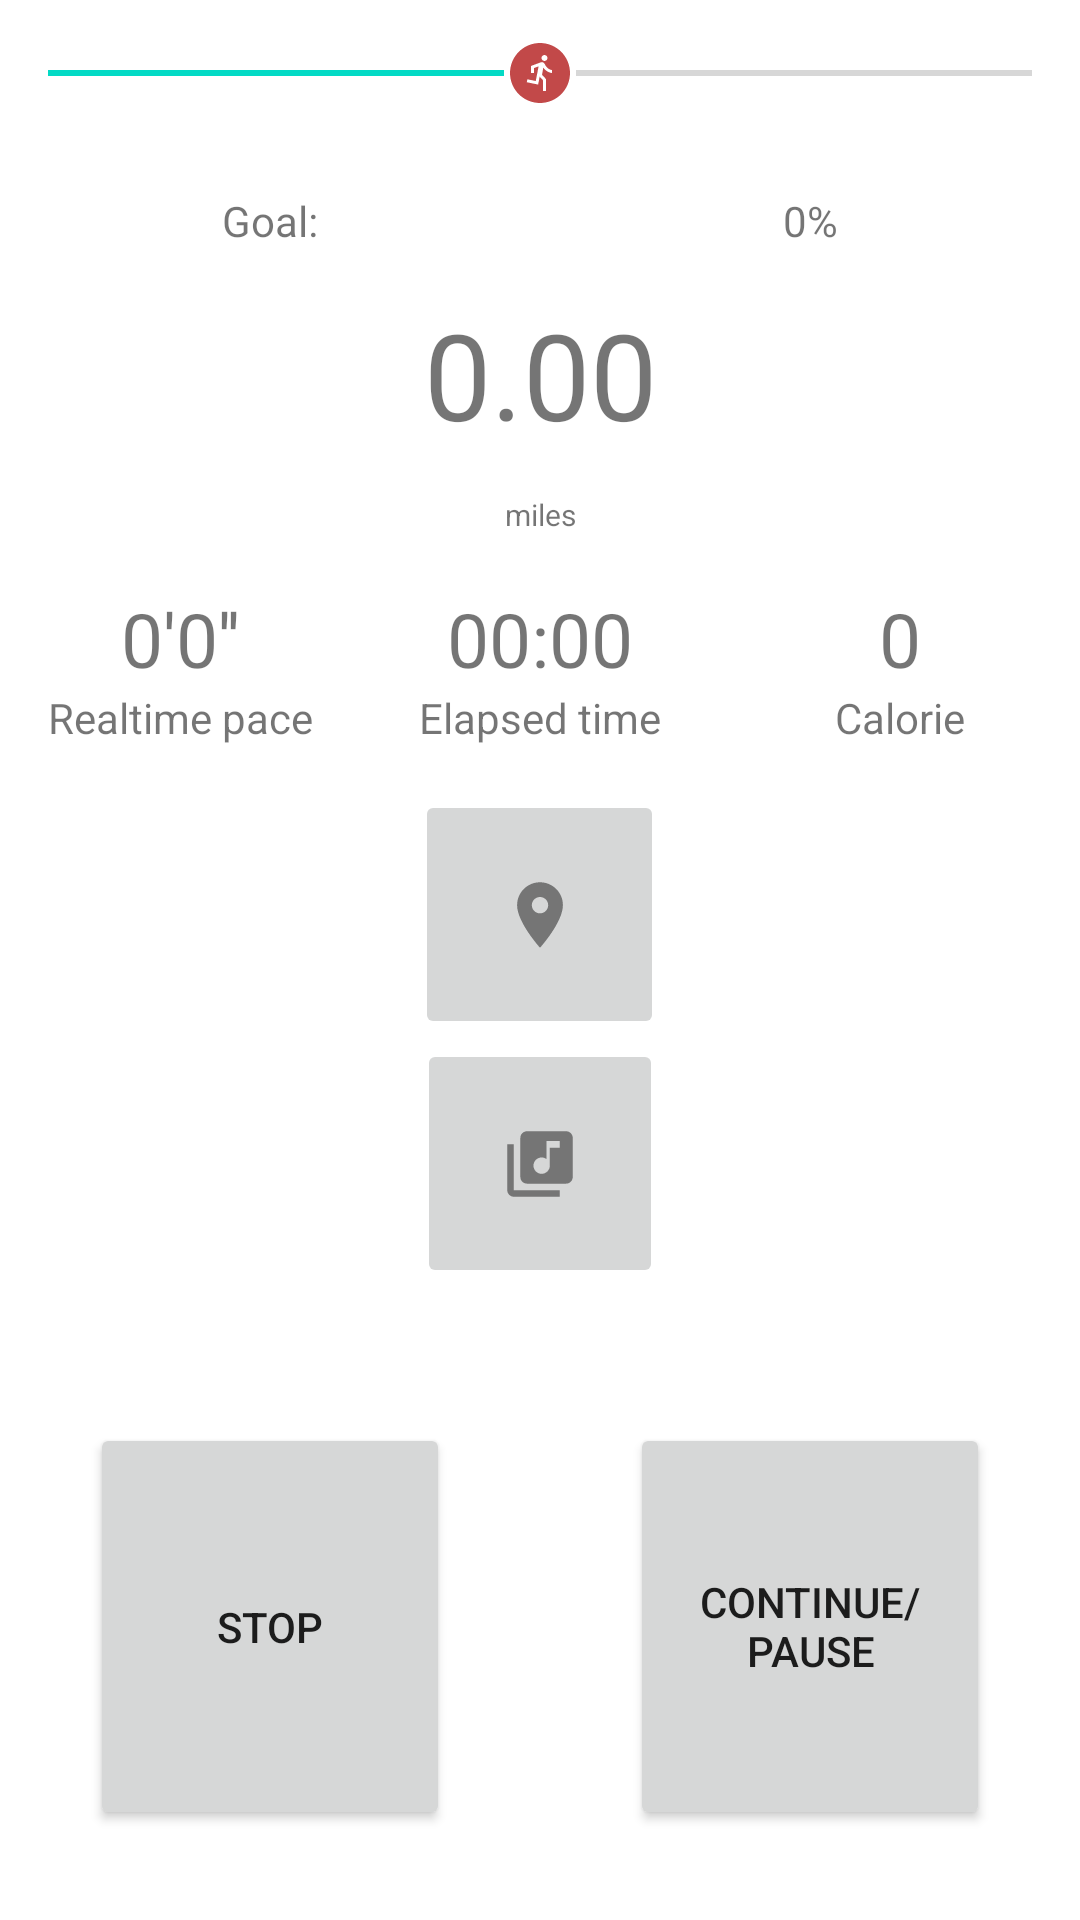

Where icons sit on this 1080x1920 app screen, as (x1, y1, x2, y2):
location: (427, 808, 652, 1021)
music: (429, 1057, 651, 1270)
